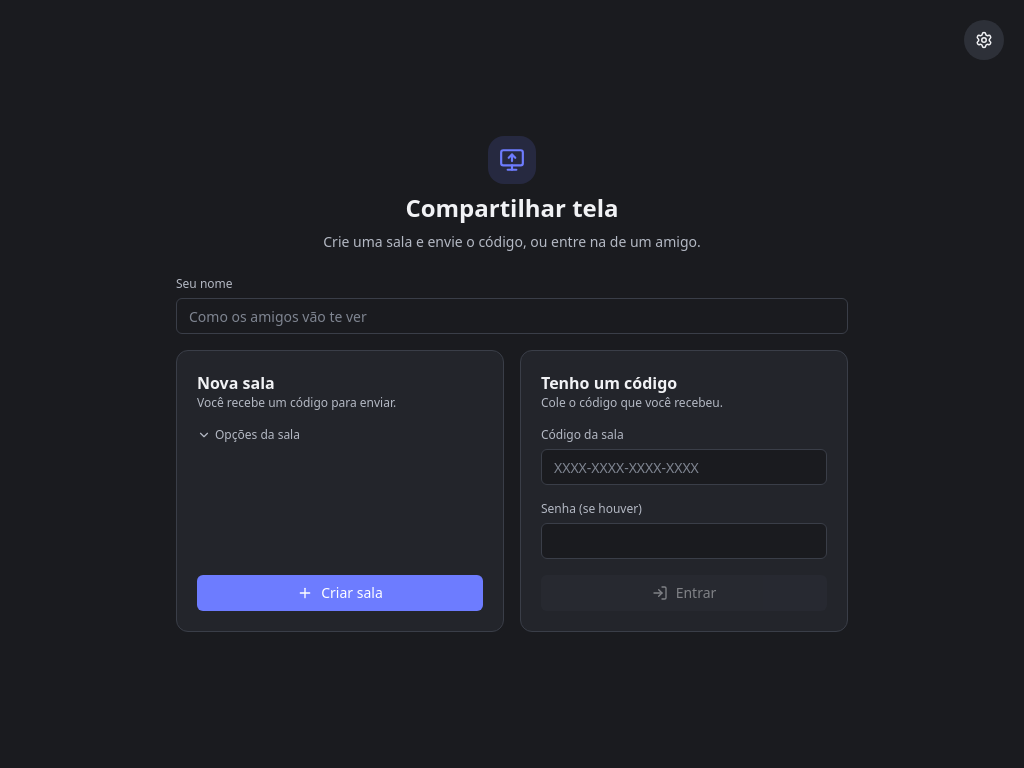
Test: endereço do servidor › mostra o endereço atual e deixa salvar só quando muda
Click the button named "Configurações".
click(984, 40)  # box [964,20,1004,60]
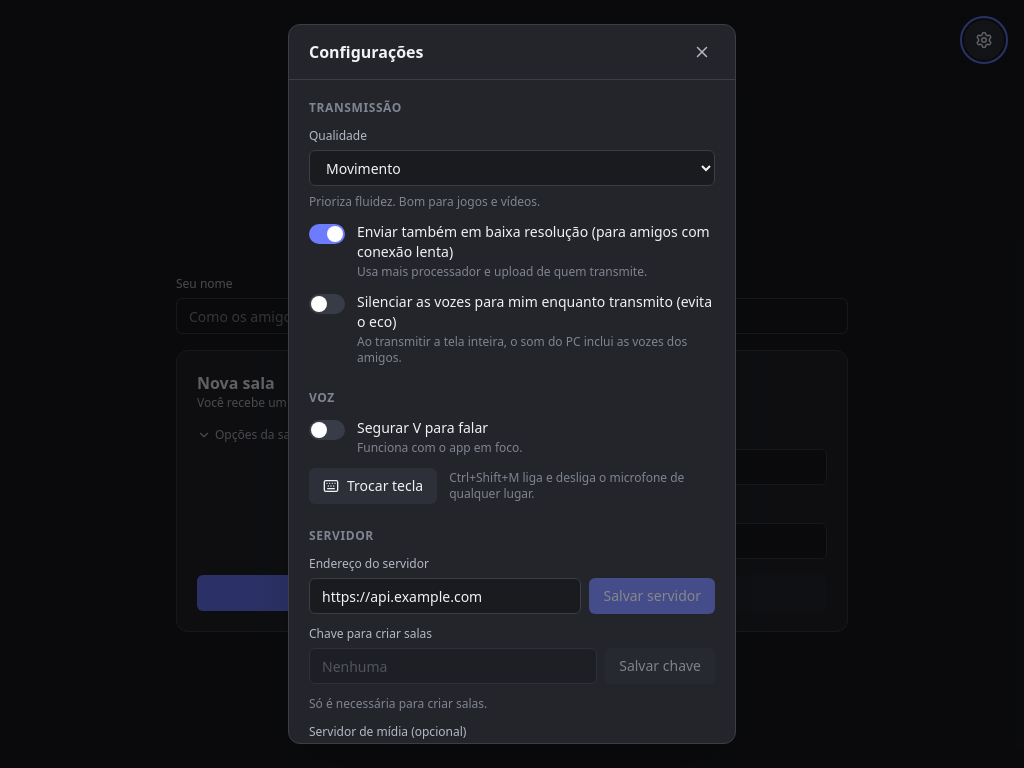
Result: the field labelled "Endereço do servidor" holds "https://api.example.com"
Result: the button "Salvar servidor" is disabled at [590,578,715,614]
Replace the text in the field labelled "Endereço do servidor" with "http://100.1.2.3:3000" at (445, 596), box [309,578,582,614]
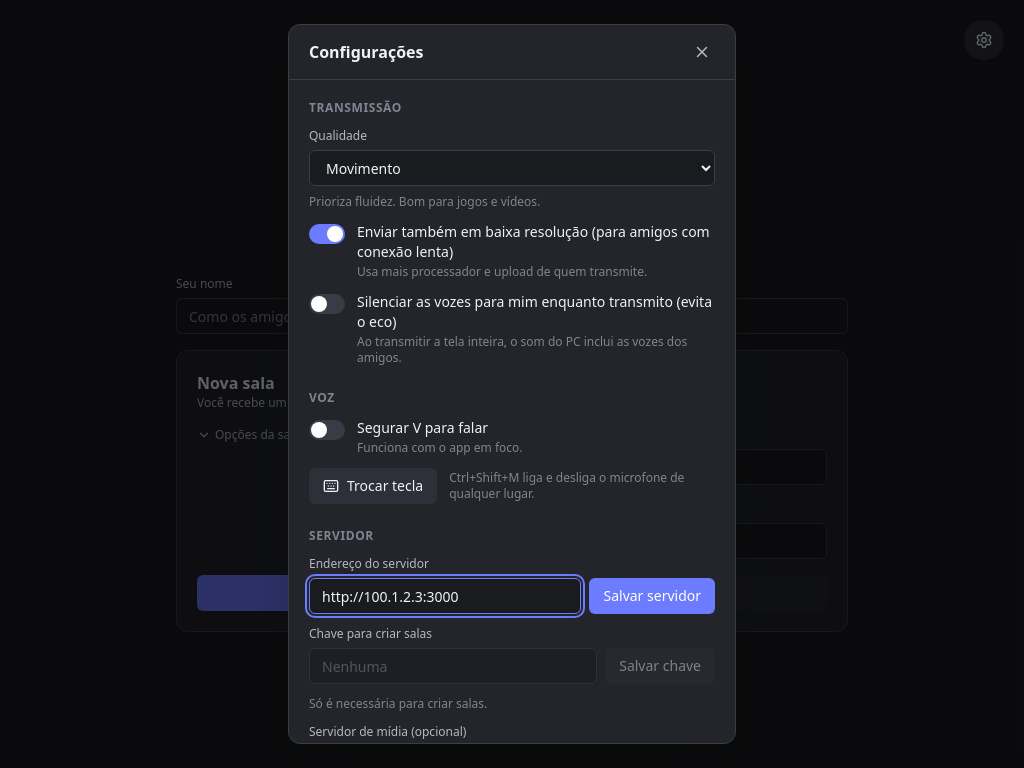
Result: the button "Salvar servidor" is enabled at [590,578,715,614]
